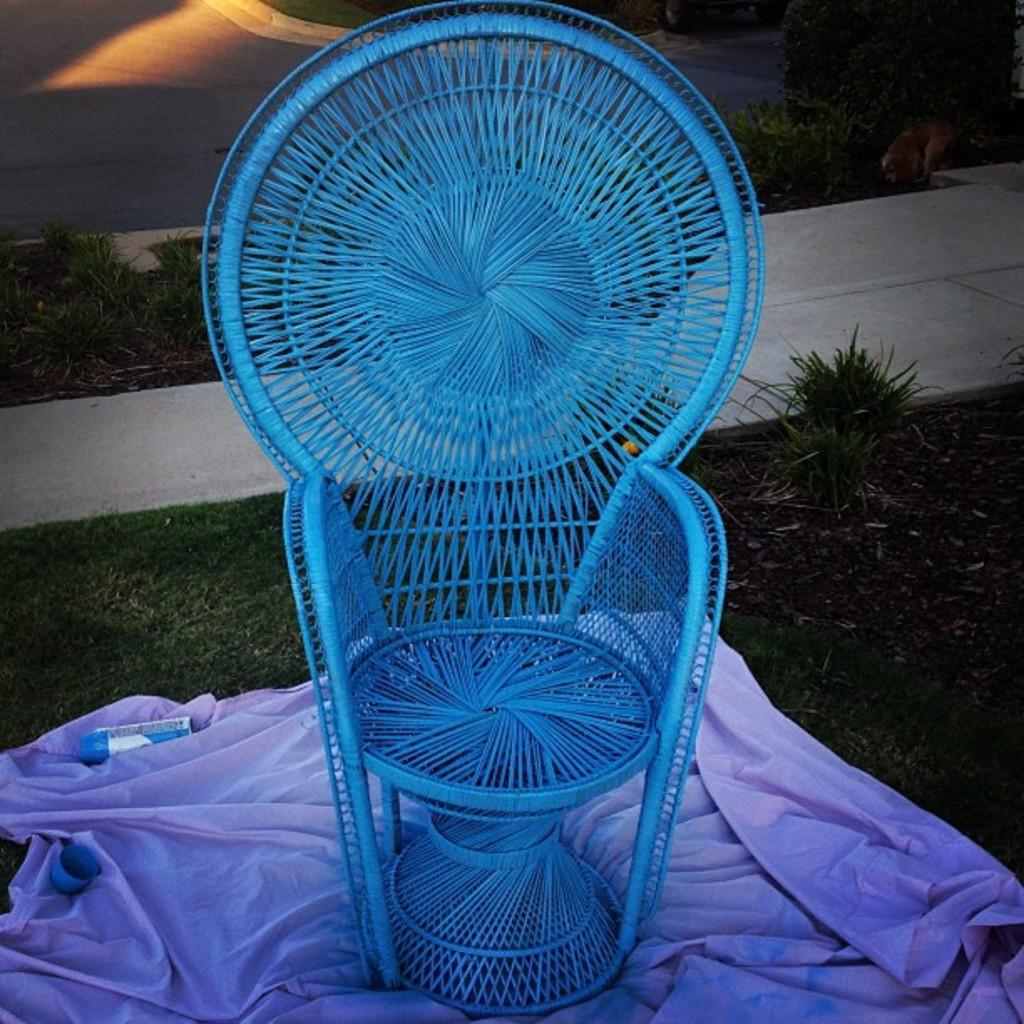Chair: (211, 42, 793, 967)
